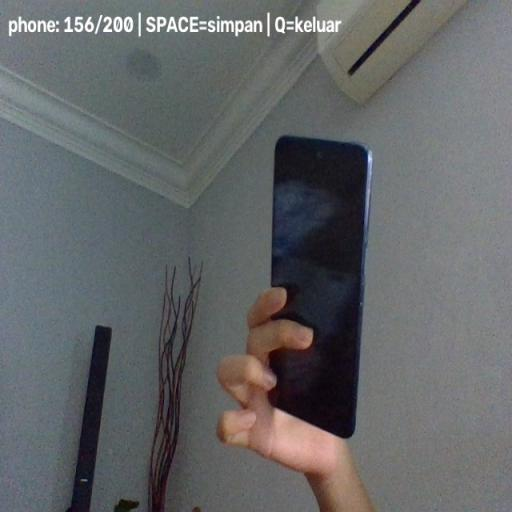Phone: (266, 136, 374, 438)
